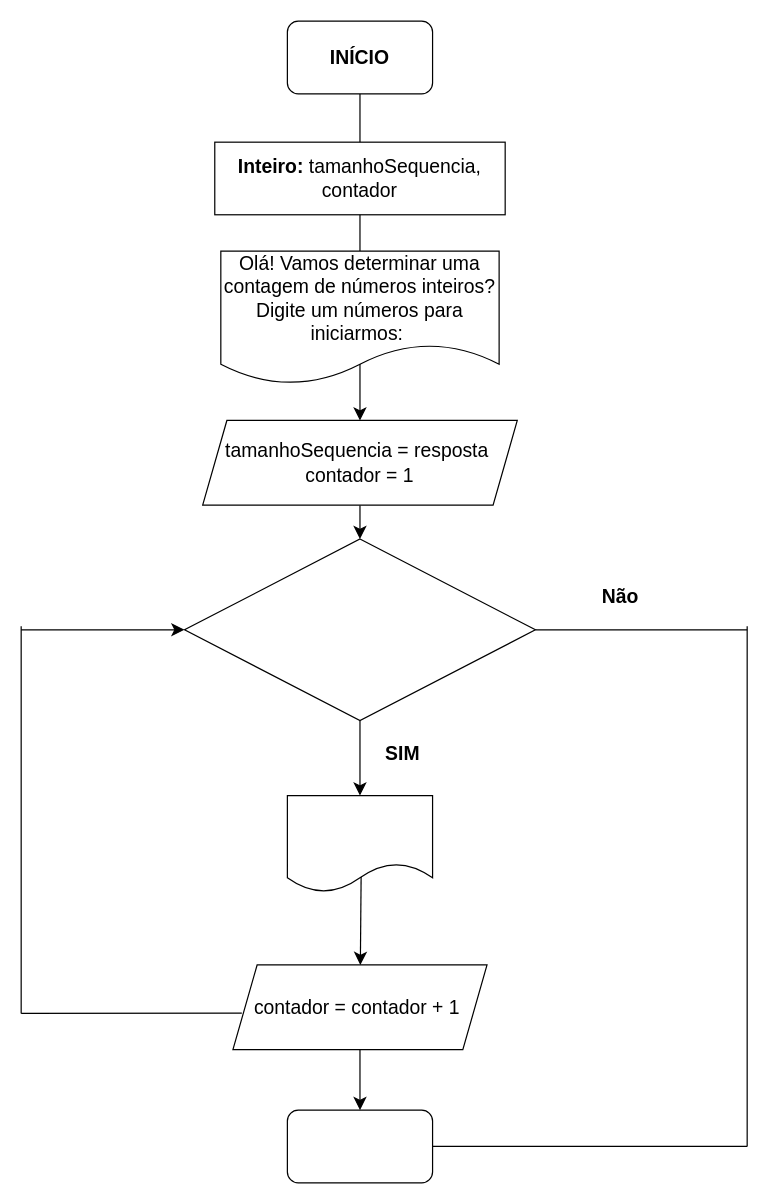
Some shapes in this 770 by 1204 pixel diagram are drawn without their labels. The shapes that lost their labels are listed below. From the top down, each one's centre as x and y in pixels, then its label:
(x=359, y=629): contador <= tamanhoSequencia ?
(x=359, y=843): Contador
(x=359, y=1146): FIM
